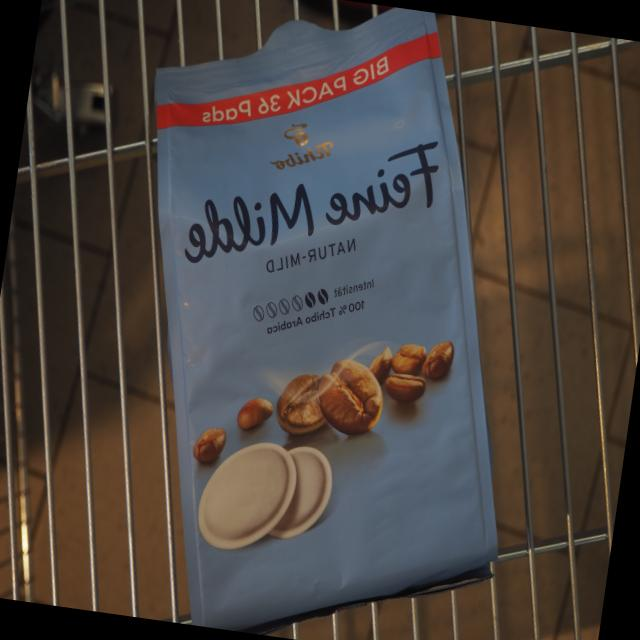FM 36 Pads: (67, 0, 579, 640)
